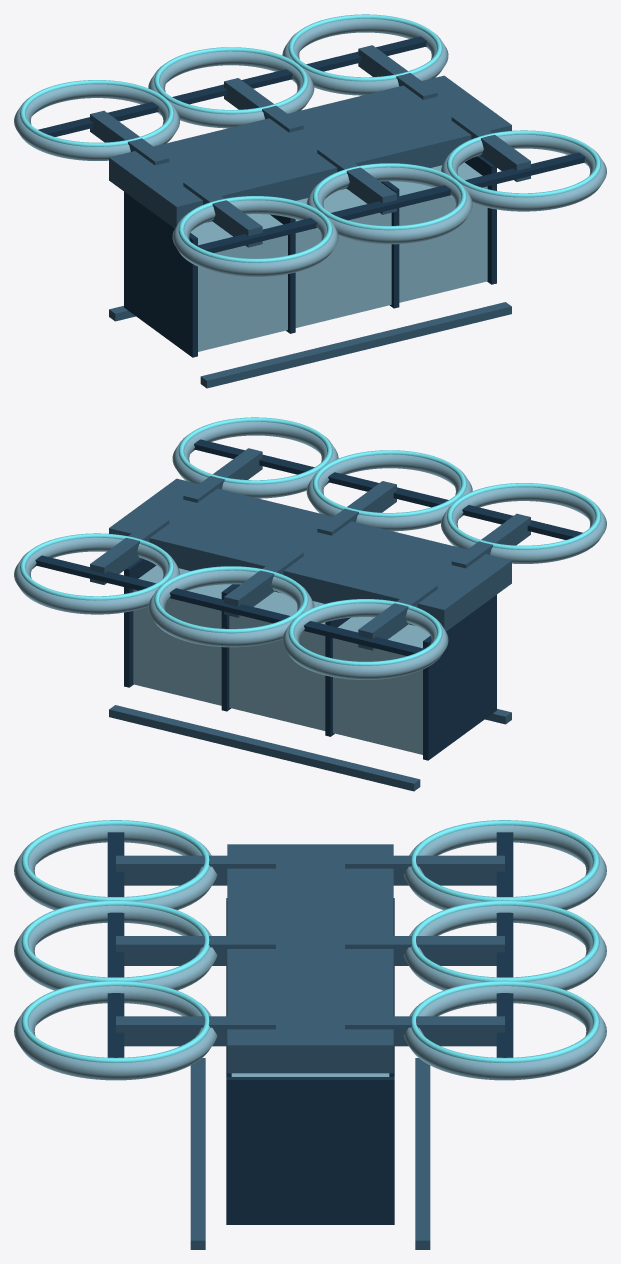
The model's file is cargoDrone.glb.
The picture shows the model from 3 angles, top to bottom: view 1: azimuth 30°, elevation 25°; view 2: azimuth 150°, elevation 25°; view 3: azimuth 270°, elevation 25°; orthographic projection. The views are drawn at different scales.
Size of the model in its own units: 13.52 by 5.59 by 13.72.
